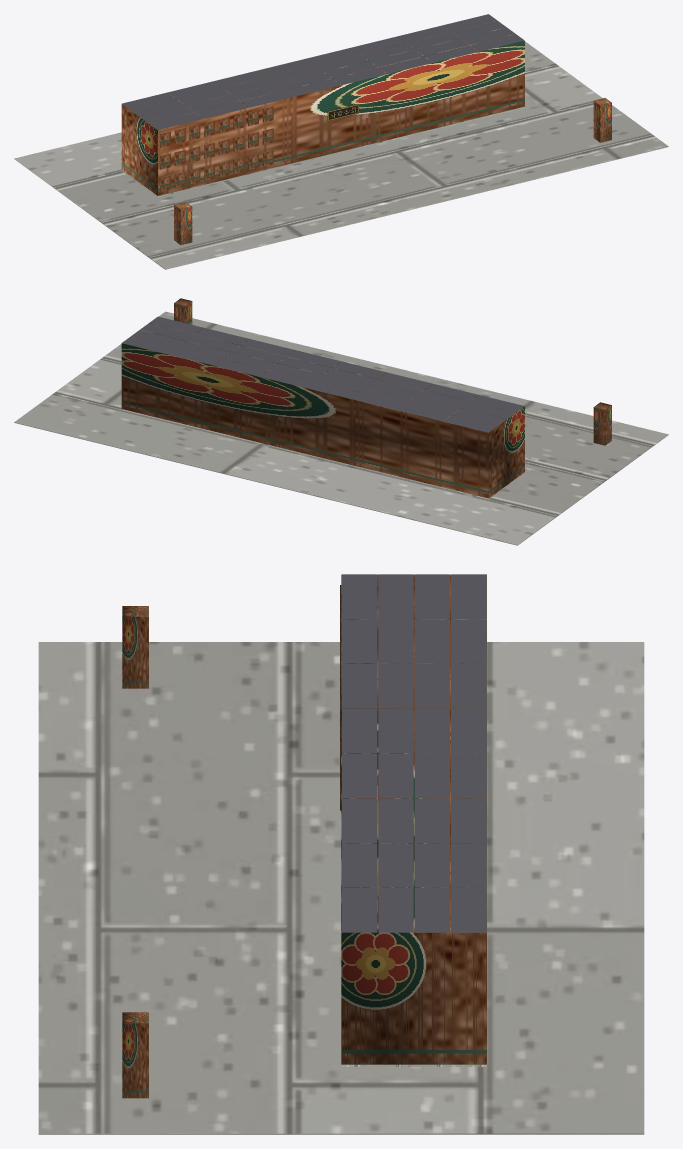
3 views of the same model, one above another, from view 1: azimuth 30°, elevation 25°; view 2: azimuth 150°, elevation 25°; view 3: azimuth 270°, elevation 25° (orthographic). The views are drawn at different scales.
Parts seen in each view (by area): view 1: 11680_01_06029_037_01_L2__base, 11680_01_06029_037_02_L2__body, 11680_01_06029_037_03_L2__roof, 11680_01_06029_037_05_L2__openings, 11680_01_06029_037_06_L2__green; view 2: 11680_01_06029_037_01_L2__base, 11680_01_06029_037_02_L2__body, 11680_01_06029_037_03_L2__roof, 11680_01_06029_037_06_L2__green; view 3: 11680_01_06029_037_01_L2__base, 11680_01_06029_037_03_L2__roof, 11680_01_06029_037_02_L2__body, 11680_01_06029_037_06_L2__green.
Boxes of the visible parts, x1=… form: 11680_01_06029_037_01_L2__base: x1=14, y1=41, x2=668, y2=269; 11680_01_06029_037_02_L2__body: x1=121, y1=21, x2=524, y2=195; 11680_01_06029_037_03_L2__roof: x1=122, y1=14, x2=524, y2=129; 11680_01_06029_037_05_L2__openings: x1=160, y1=106, x2=273, y2=191; 11680_01_06029_037_06_L2__green: x1=174, y1=98, x2=611, y2=244; 11680_01_06029_037_01_L2__base: x1=14, y1=311, x2=668, y2=545; 11680_01_06029_037_02_L2__body: x1=121, y1=323, x2=524, y2=498; 11680_01_06029_037_03_L2__roof: x1=122, y1=316, x2=524, y2=432; 11680_01_06029_037_06_L2__green: x1=174, y1=298, x2=611, y2=445; 11680_01_06029_037_01_L2__base: x1=38, y1=642, x2=644, y2=1134; 11680_01_06029_037_03_L2__roof: x1=342, y1=574, x2=486, y2=932; 11680_01_06029_037_02_L2__body: x1=341, y1=574, x2=486, y2=1064; 11680_01_06029_037_06_L2__green: x1=122, y1=606, x2=148, y2=1098.
Size of the model in its own units: 96 by 12.32 by 50.
5 materials, 5 textured.
